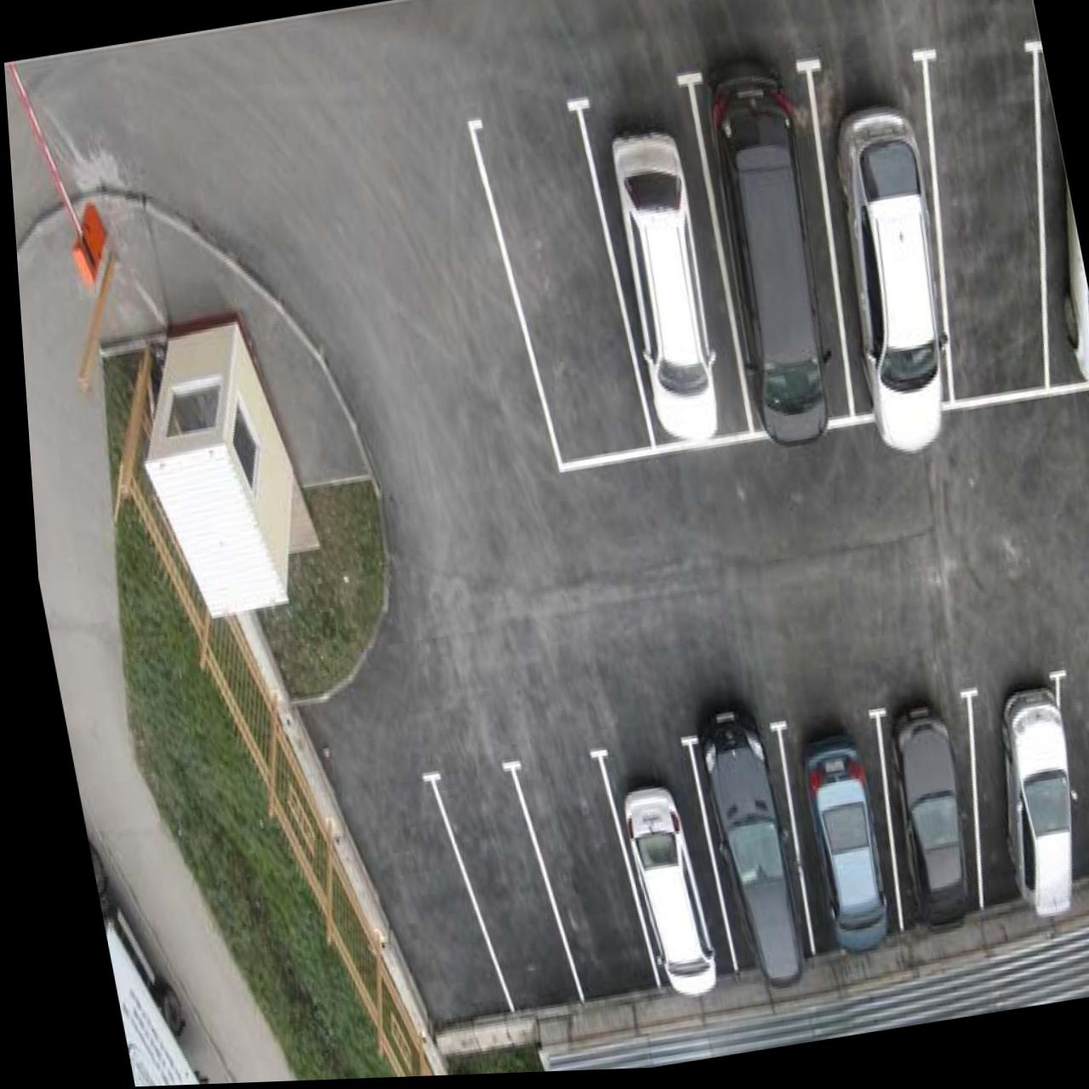cars: (802, 46, 978, 476), (682, 54, 870, 456), (574, 74, 741, 456), (772, 701, 920, 967), (858, 681, 1001, 941), (694, 713, 825, 990), (608, 737, 742, 999), (950, 679, 1089, 931)
empty: (465, 76, 656, 481), (911, 40, 1084, 425), (349, 774, 503, 1035), (521, 744, 654, 1002), (449, 756, 571, 1024), (1040, 673, 1089, 874)
